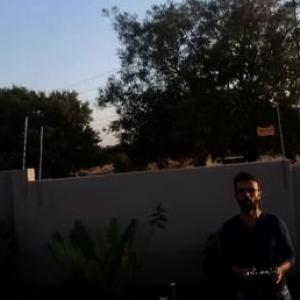follow: (217, 168, 300, 298)
